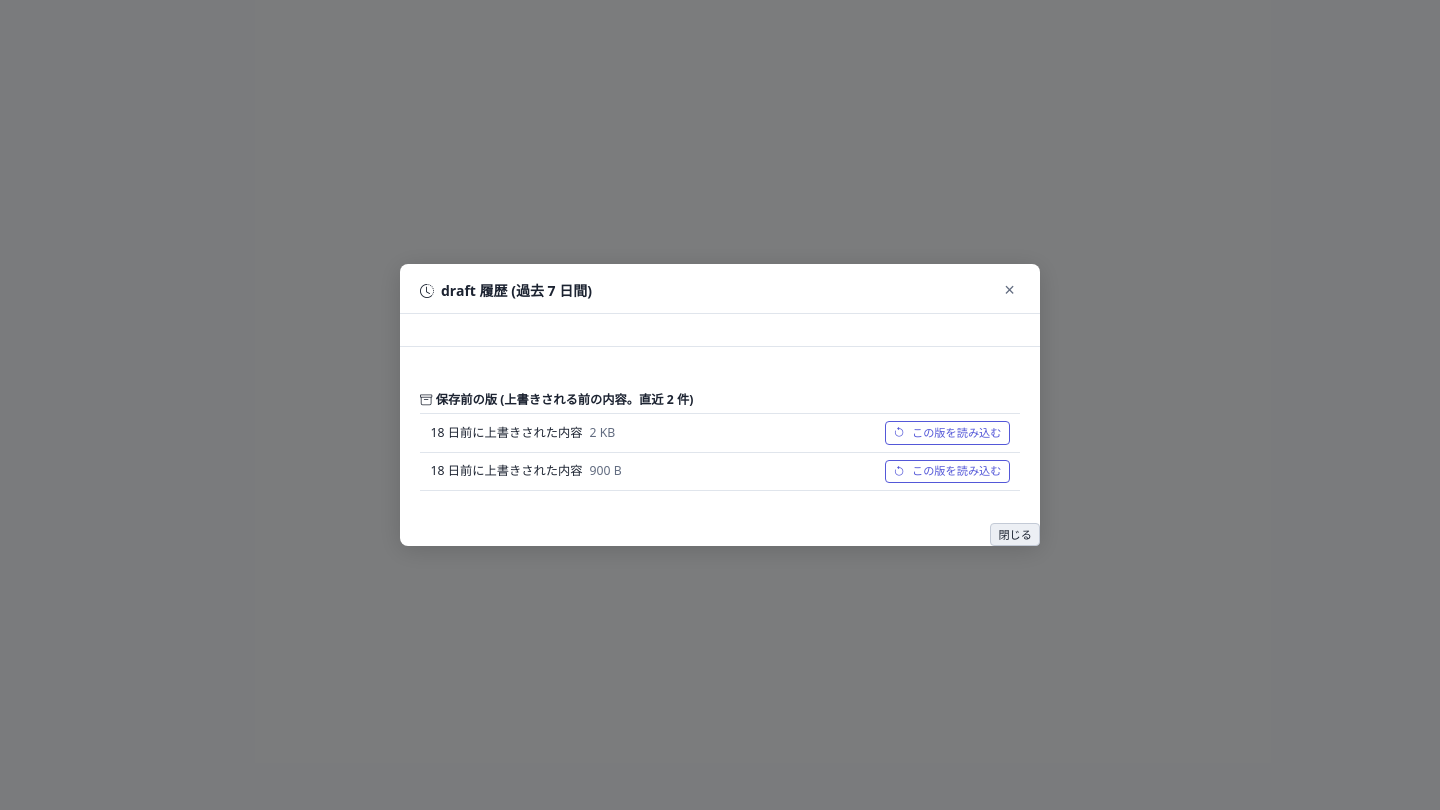
it: DraftHistoryModal: 保存前の版 › 版の読み込みに失敗したら、エラーを出して閉じない
Step 1. Click the button "この版を読み込む" in the row of "900 B" → (947, 471), box [885,460,1010,483]
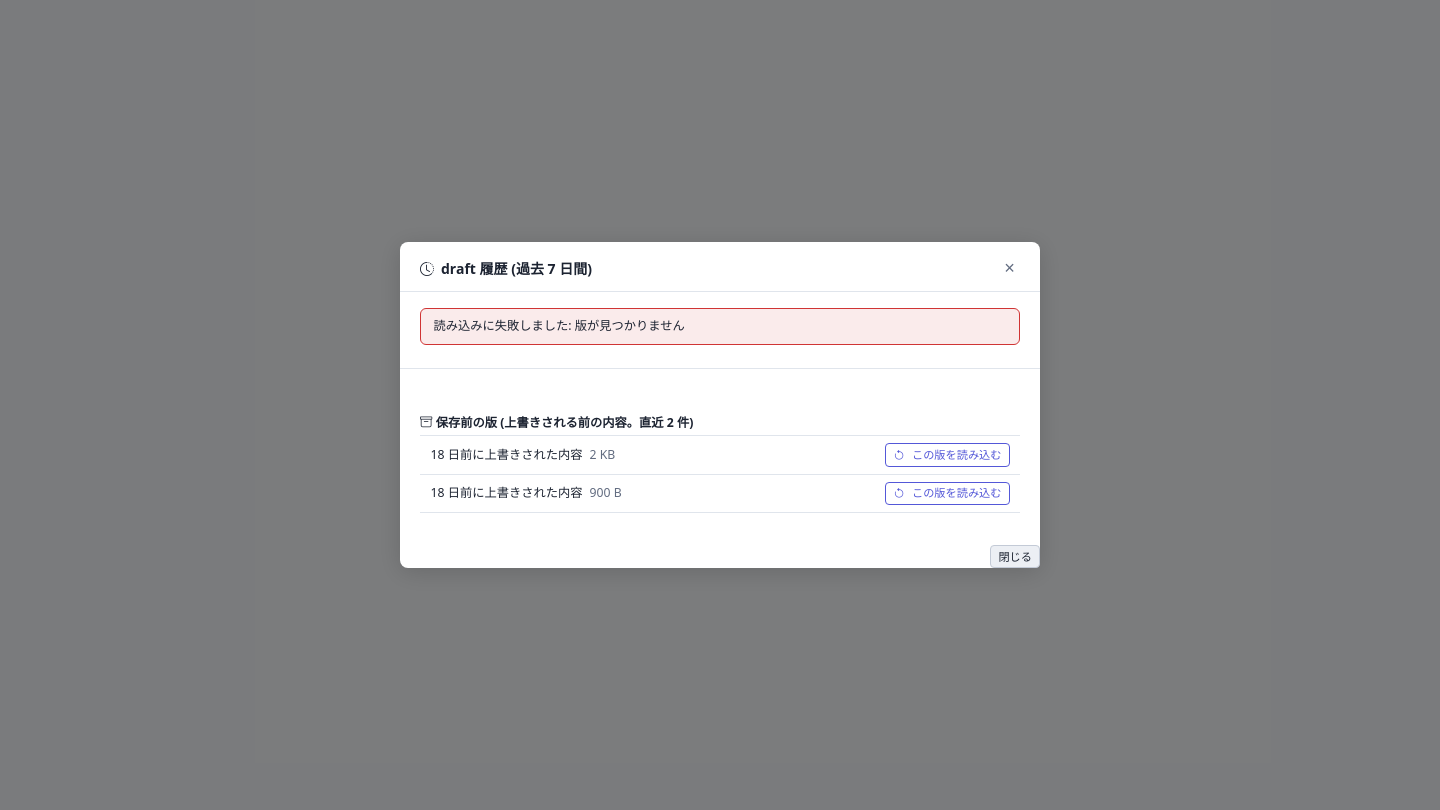
Check: the message shows "版が見つかりません", box [434,317,685,334]
